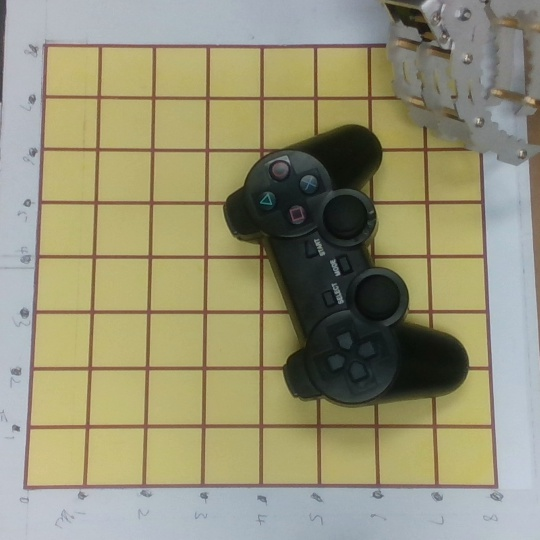remote: (220, 124, 470, 418)
